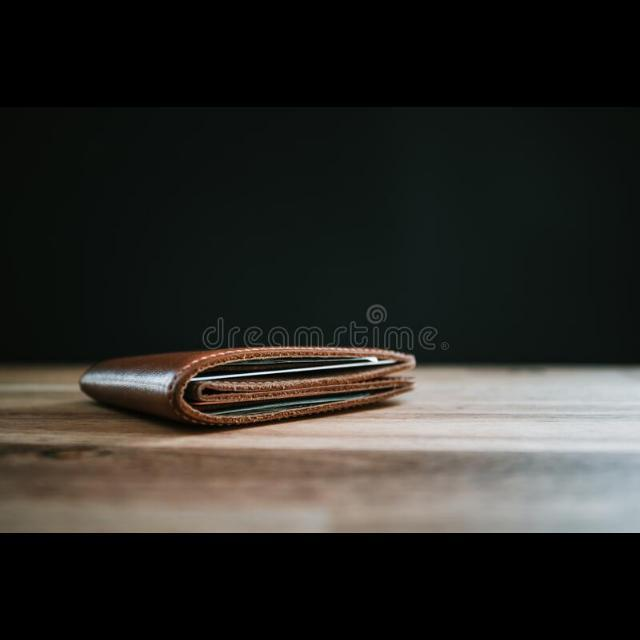wallet: (80, 324, 466, 462)
